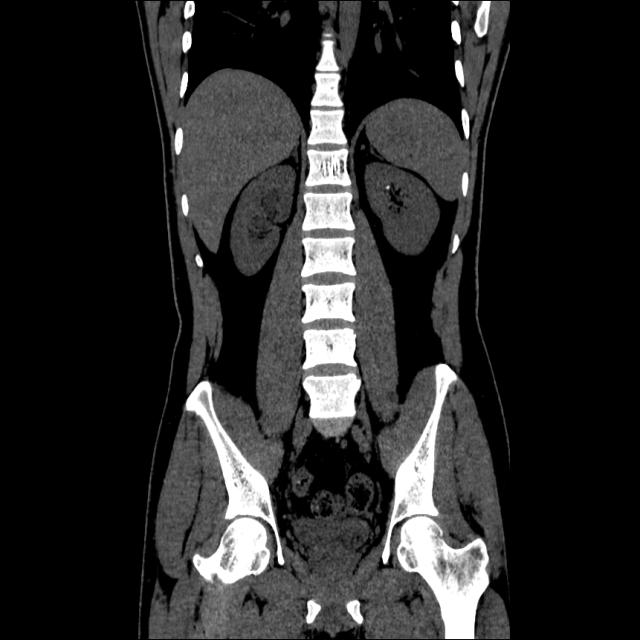kidneystone: (385, 182, 394, 192)
